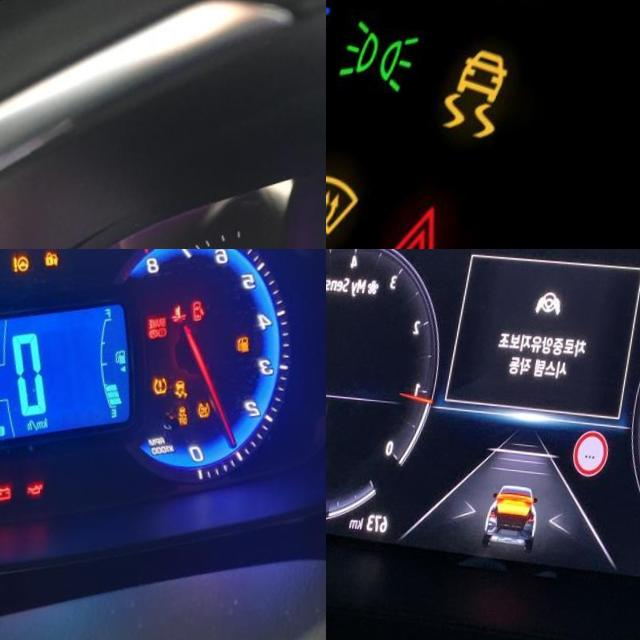Doors: (198, 293, 216, 316)
Engine cooling system: (177, 296, 197, 317)
Low fuel level: (245, 327, 261, 346)
SideLamp: (343, 8, 433, 91)
